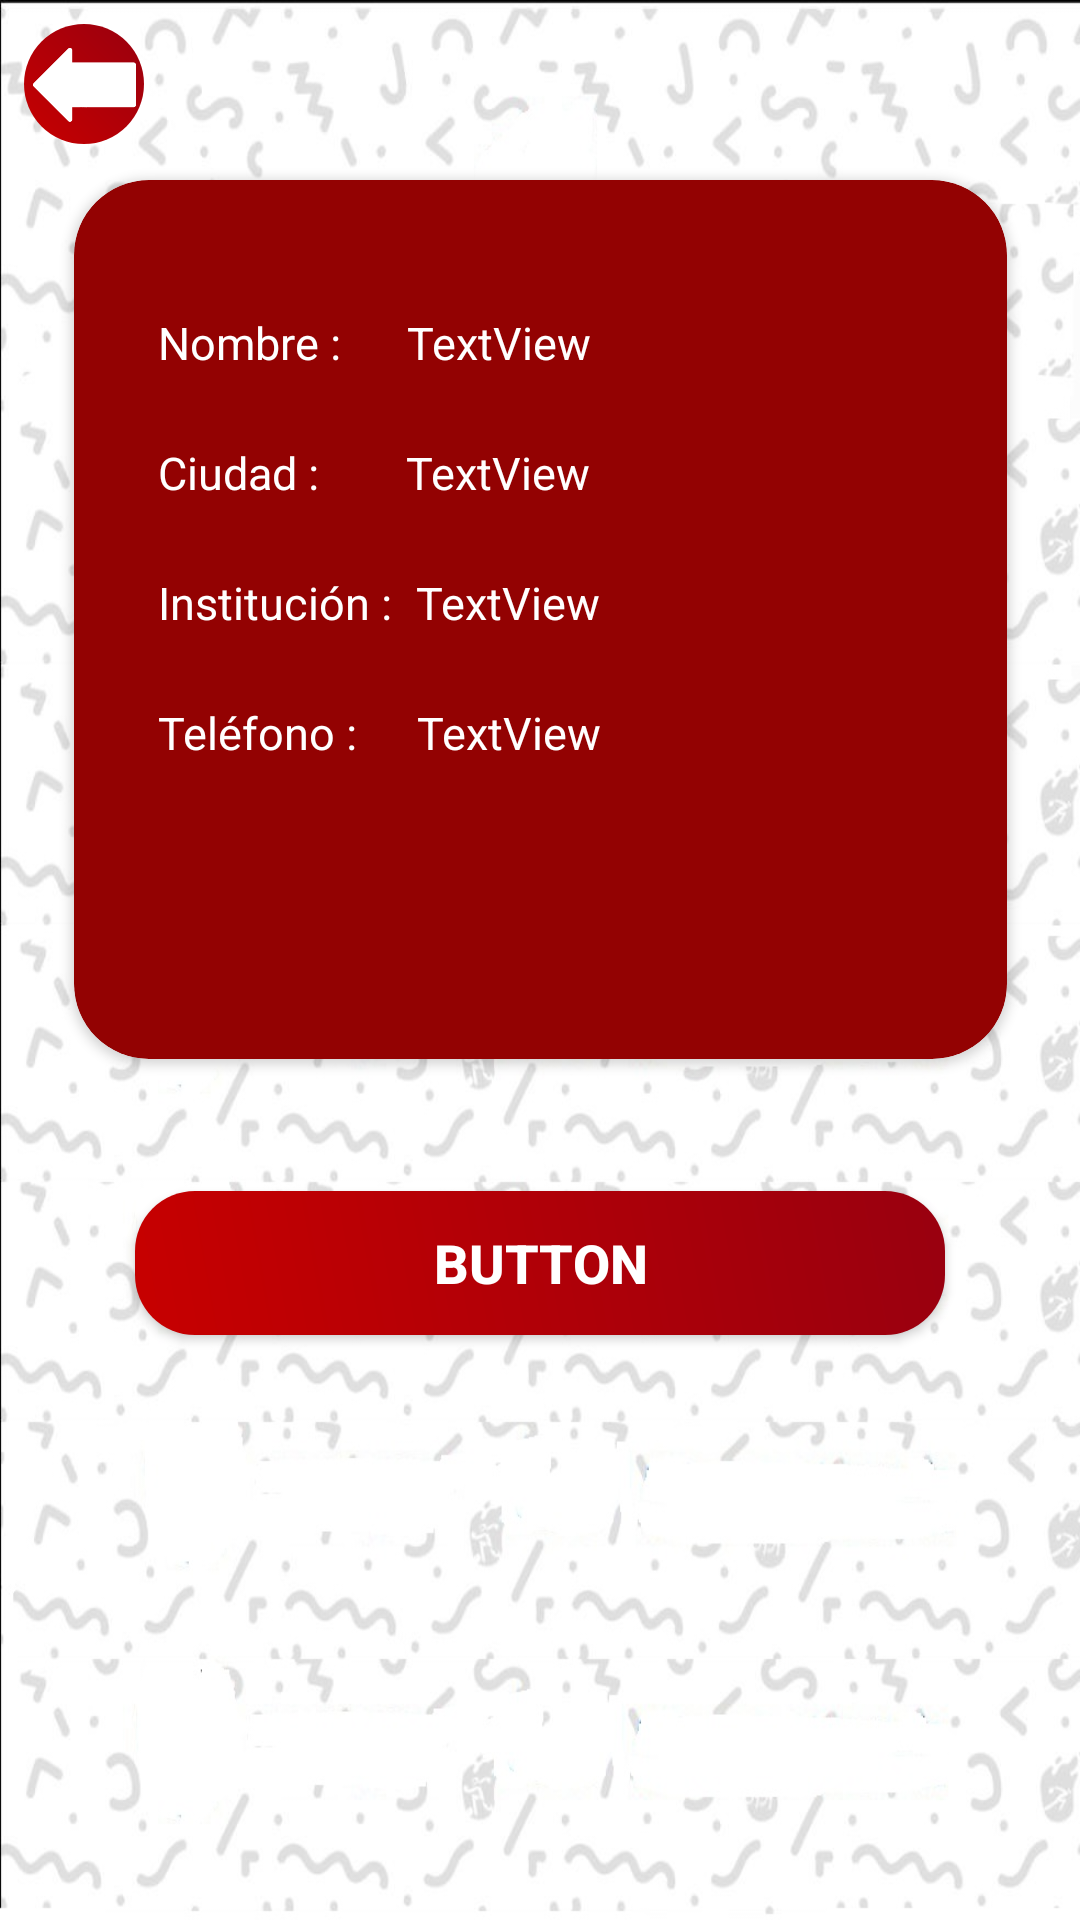

Named icons in this screenshot (1080x1920) and their centers, (x=x, y=y):
back: (x=84, y=84)
